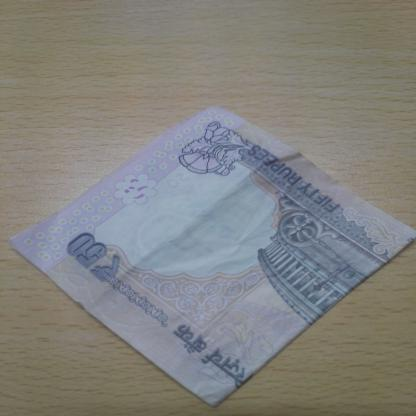Old50Back: (8, 104, 416, 408)
